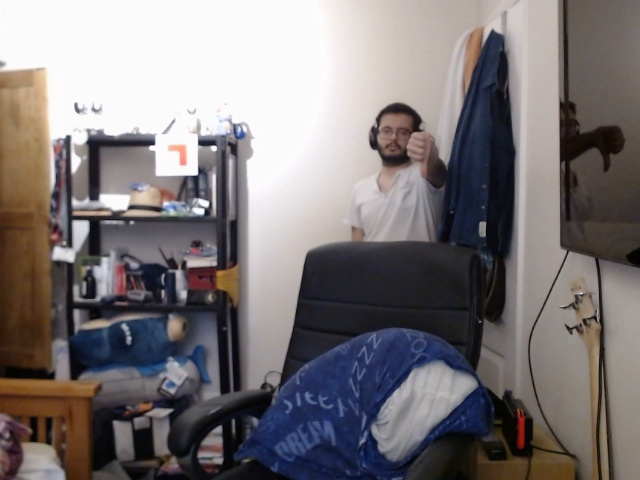Thumbs down: (397, 126, 439, 192)
